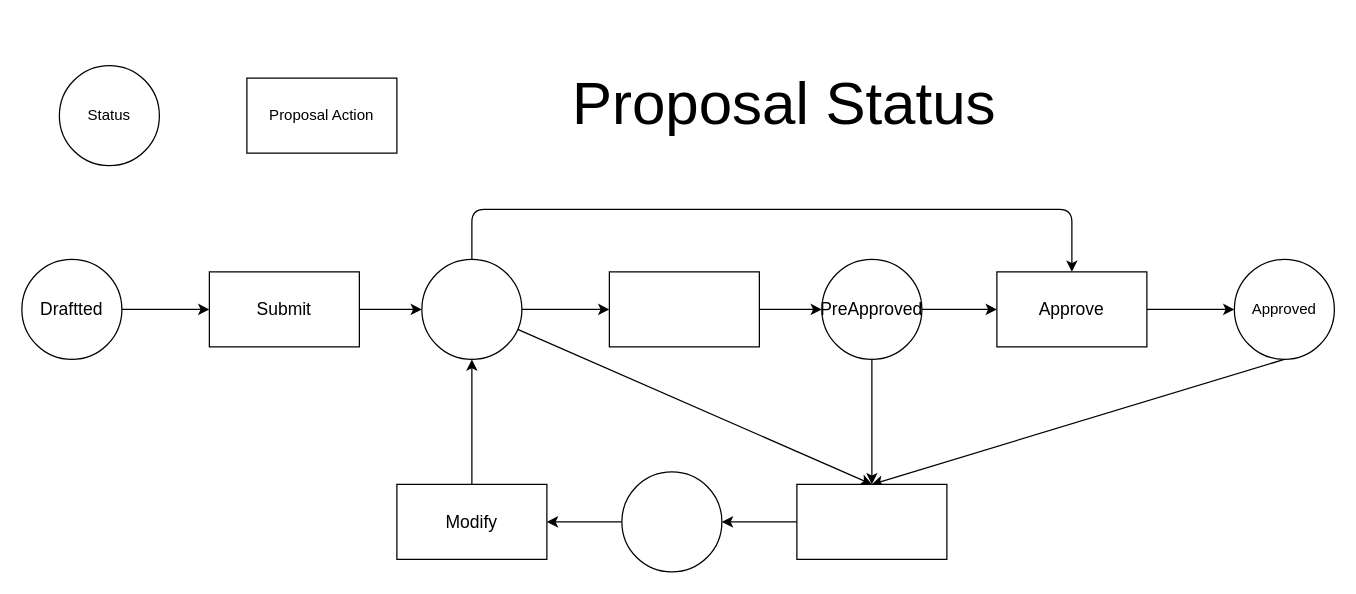
The diagram is 1356 pixels wide and 594 high, and some of its shapes have lost their labels. The box of each missing label's shape, as (x1, y1, x2, y2) in pixels:
Decline: (796, 483, 947, 559)
Declined: (621, 471, 722, 572)
PreApprove: (608, 271, 759, 347)
Submitted: (421, 258, 522, 359)
